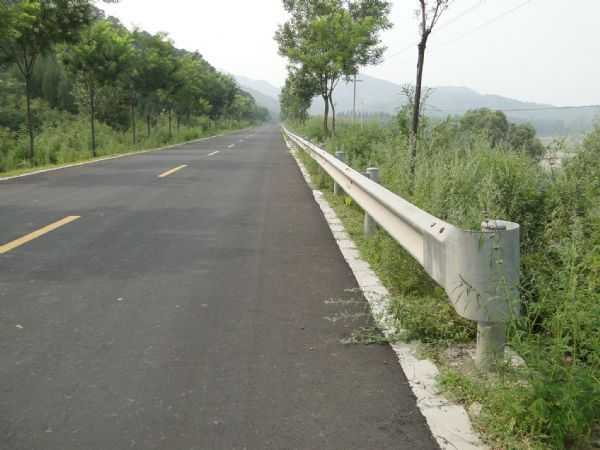Tree: (283, 1, 384, 140), (1, 1, 75, 166), (115, 21, 177, 144), (69, 10, 115, 157)
